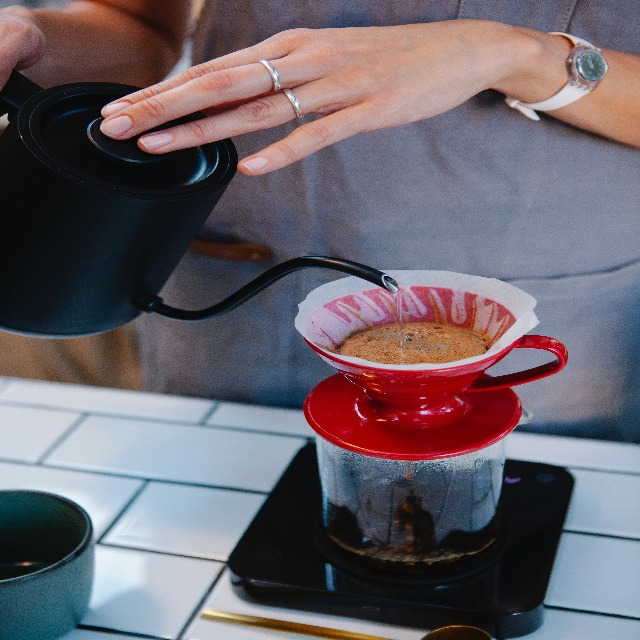Sin_guantes: (99, 19, 492, 176)
